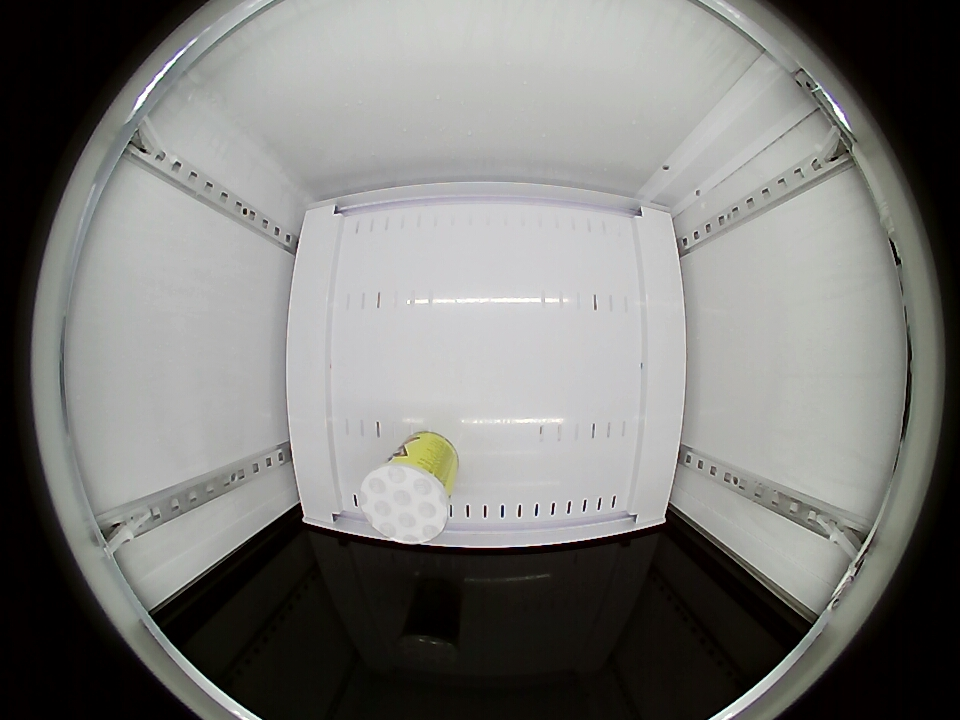kebike: (359, 444, 456, 544)
